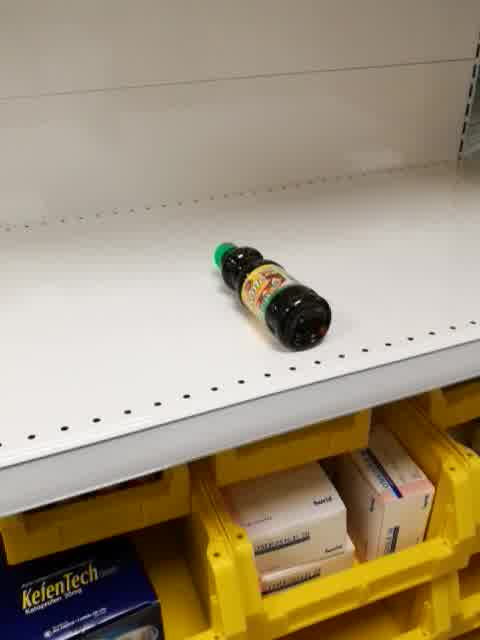cookingoil: (211, 238, 334, 355)
